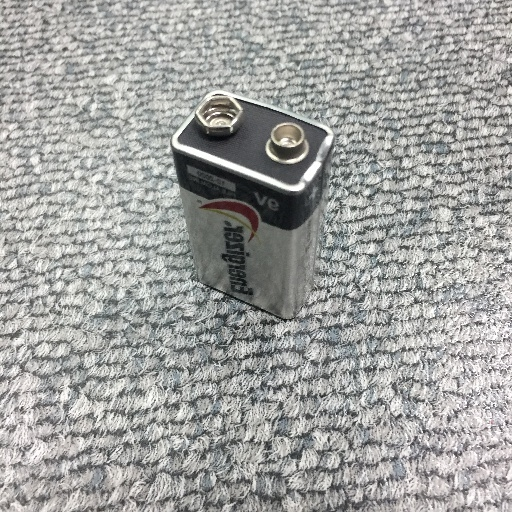Battery_3: (155, 71, 364, 339)
